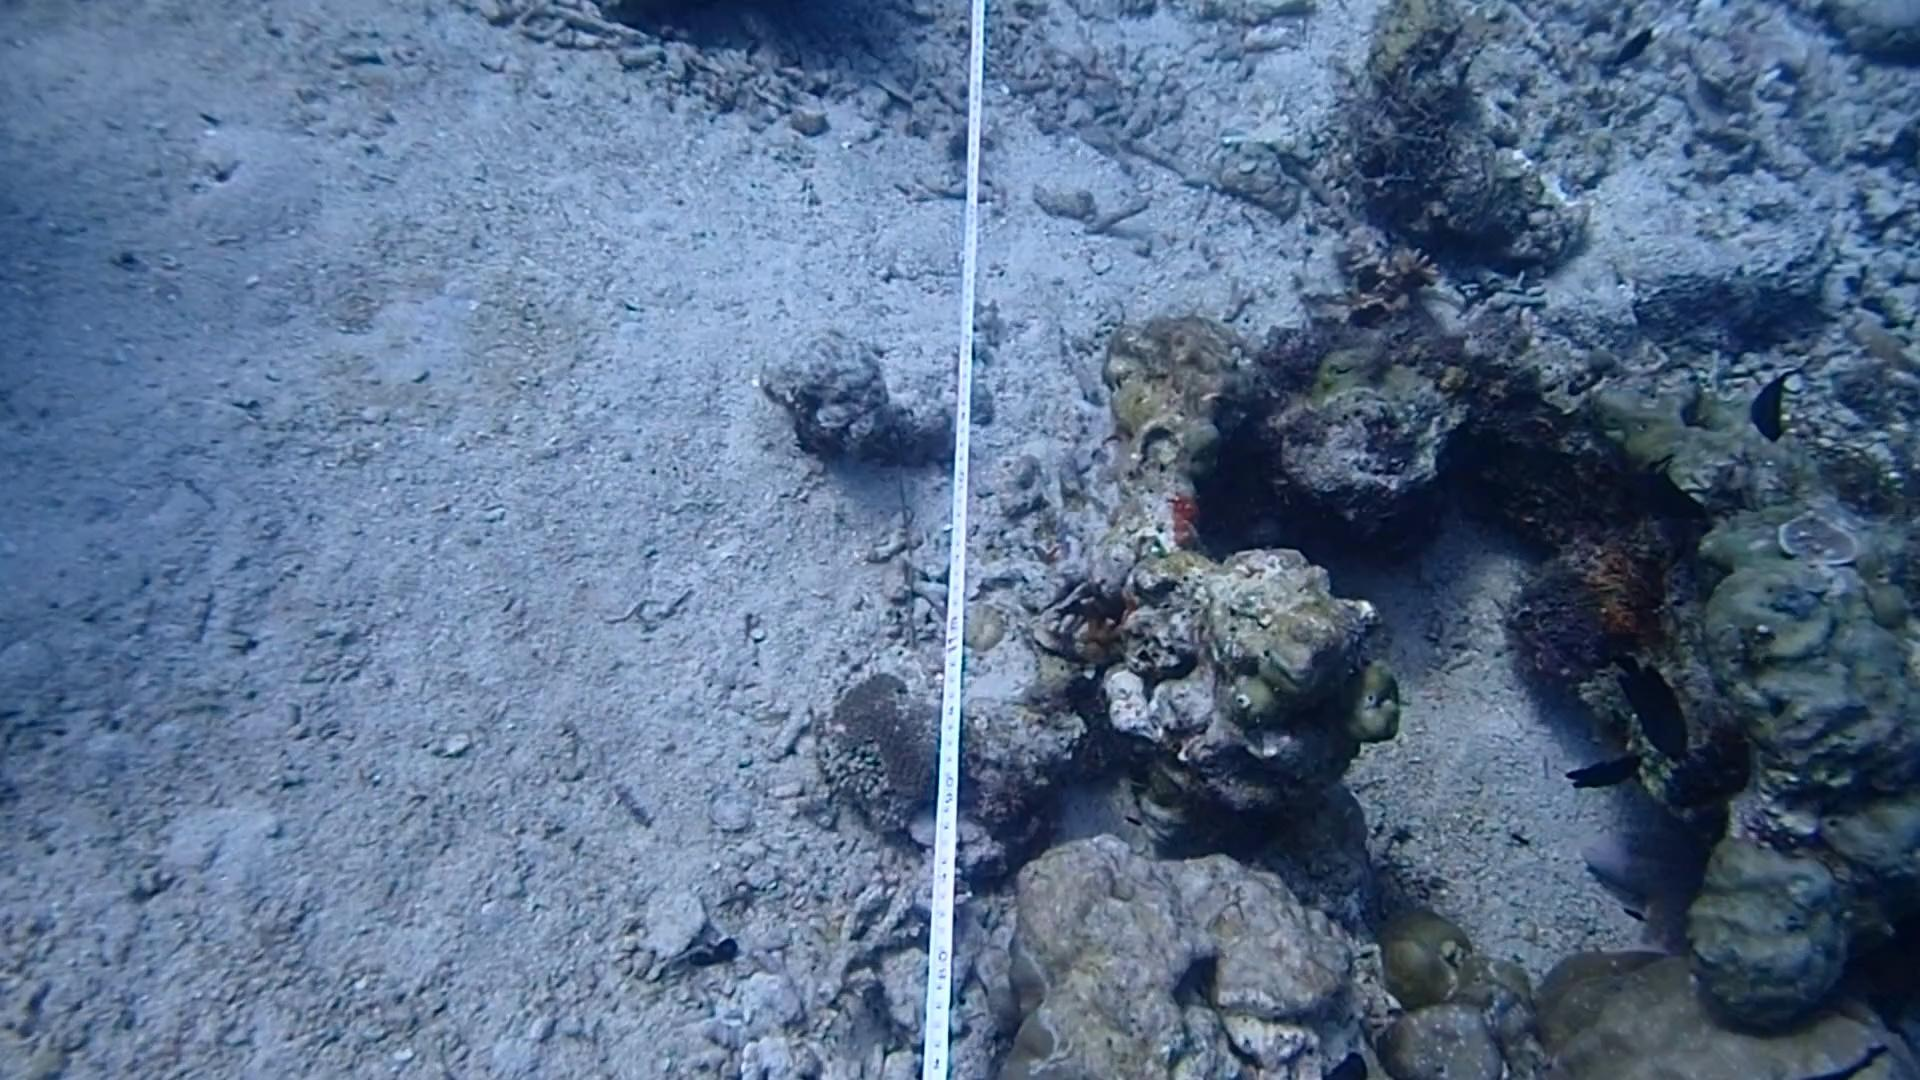Dark Fish: (1611, 640, 1697, 771), (1737, 352, 1800, 442), (1557, 745, 1647, 803), (1613, 18, 1655, 74)
